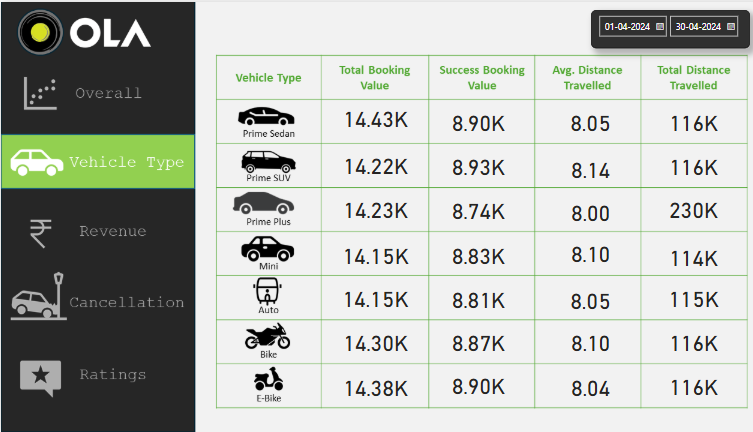

What the dashboard file says about the page in this screenshot:
{"tool":"powerbi","page":{"name":"Vehicle Type","canvas":[1280,720],"ordinal":1},"visuals":[{"type":"actionButton","box":[0,331.7,325,93.3],"z":0},{"type":"actionButton","box":[0,448.3,325,110],"z":1000},{"type":"actionButton","box":[0,105,325,93.3],"z":2000},{"type":"actionButton","box":[0,583.3,325,93.3],"z":3000},{"type":"card","fields":{"Values":["CountNonNull(Bookings.Booking Value)"]},"box":[538.3,151.7,171.7,80],"z":4000},{"type":"card","fields":{"Values":["CountNonNull(Bookings.Booking Value)"]},"box":[538.3,231.7,171.7,78.3],"z":5000},{"type":"card","fields":{"Values":["CountNonNull(Bookings.Booking Value)"]},"box":[538.3,525,171.7,80],"z":6000},{"type":"card","fields":{"Values":["CountNonNull(Bookings.Booking Value)"]},"box":[538.3,460,171.7,65],"z":7000},{"type":"card","fields":{"Values":["CountNonNull(Bookings.Booking Value)"]},"box":[538.3,381.7,171.7,78.3],"z":8000},{"type":"card","fields":{"Values":["CountNonNull(Bookings.Booking Value)"]},"box":[538.3,310,171.7,68.3],"z":9000},{"type":"card","fields":{"Values":["CountNonNull(Bookings.Booking Value)"]},"box":[538.3,605,171.7,71.7],"z":10000},{"type":"card","fields":{"Values":["CountNonNull(Bookings.Booking Value)"]},"box":[710,158.3,171.7,80],"z":11000},{"type":"card","fields":{"Values":["CountNonNull(Bookings.Booking Value)"]},"box":[710,231.7,171.7,80],"z":12000},{"type":"card","fields":{"Values":["CountNonNull(Bookings.Booking Value)"]},"box":[710,305,171.7,80],"z":13000},{"type":"card","fields":{"Values":["CountNonNull(Bookings.Booking Value)"]},"box":[710,380,171.7,80],"z":14000},{"type":"card","fields":{"Values":["CountNonNull(Bookings.Booking Value)"]},"box":[710,453.3,171.7,80],"z":15000},{"type":"card","fields":{"Values":["CountNonNull(Bookings.Booking Value)"]},"box":[710,525,171.7,80],"z":16000},{"type":"card","fields":{"Values":["CountNonNull(Bookings.Booking Value)"]},"box":[710,596.7,171.7,80],"z":17000},{"type":"card","fields":{"Values":["Avg(Bookings.Ride Distance)"]},"box":[896.7,160,171.7,78.3],"z":18000},{"type":"card","fields":{"Values":["Avg(Bookings.Ride Distance)"]},"box":[896.7,238.3,171.7,78.3],"z":19000},{"type":"card","fields":{"Values":["Avg(Bookings.Ride Distance)"]},"box":[896.7,310,171.7,78.3],"z":20000},{"type":"card","fields":{"Values":["Avg(Bookings.Ride Distance)"]},"box":[896.7,381.7,171.7,71.7],"z":21000},{"type":"card","fields":{"Values":["Avg(Bookings.Ride Distance)"]},"box":[896.7,460,171.7,73.3],"z":22000},{"type":"card","fields":{"Values":["Avg(Bookings.Ride Distance)"]},"box":[896.7,526.7,171.7,78.3],"z":23000},{"type":"card","fields":{"Values":["Avg(Bookings.Ride Distance)"]},"box":[896.7,601.7,171.7,78.3],"z":24000},{"type":"card","fields":{"Values":["Sum(Bookings.Ride Distance)"]},"box":[1068.3,233.3,171.7,78.3],"z":25000},{"type":"card","fields":{"Values":["Sum(Bookings.Ride Distance)"]},"box":[1068.3,160,171.7,78.3],"z":26000},{"type":"card","fields":{"Values":["Sum(Bookings.Ride Distance)"]},"box":[1068.3,305,171.7,78.3],"z":27000},{"type":"card","fields":{"Values":["Sum(Bookings.Ride Distance)"]},"box":[1068.3,385,171.7,78.3],"z":28000},{"type":"card","fields":{"Values":["Sum(Bookings.Ride Distance)"]},"box":[1068.3,453.3,171.7,78.3],"z":29000},{"type":"card","fields":{"Values":["Sum(Bookings.Ride Distance)"]},"box":[1068.3,531.7,171.7,68.3],"z":30000},{"type":"card","fields":{"Values":["Sum(Bookings.Ride Distance)"]},"box":[1068.3,600,171.7,78.3],"z":31000},{"type":"slicer","title":"Date","fields":{"Values":["Bookings.Date"]},"box":[982.7,13.4,265.4,63.8],"z":32000}]}

Visuals, with their boxes on the page's 1280x720 design canvas (x1, y1, x2, y2). These are canvas units, not pixel positions in the 753x432 screenshot, which may show the page scaled, cropped or inside an application window:
actionButton: crop(0, 332, 325, 425)
actionButton: crop(0, 448, 325, 558)
actionButton: crop(0, 105, 325, 198)
actionButton: crop(0, 583, 325, 677)
card - CountNonNull(Bookings.Booking Value): crop(538, 152, 710, 232)
card - CountNonNull(Bookings.Booking Value): crop(538, 232, 710, 310)
card - CountNonNull(Bookings.Booking Value): crop(538, 525, 710, 605)
card - CountNonNull(Bookings.Booking Value): crop(538, 460, 710, 525)
card - CountNonNull(Bookings.Booking Value): crop(538, 382, 710, 460)
card - CountNonNull(Bookings.Booking Value): crop(538, 310, 710, 378)
card - CountNonNull(Bookings.Booking Value): crop(538, 605, 710, 677)
card - CountNonNull(Bookings.Booking Value): crop(710, 158, 882, 238)
card - CountNonNull(Bookings.Booking Value): crop(710, 232, 882, 312)
card - CountNonNull(Bookings.Booking Value): crop(710, 305, 882, 385)
card - CountNonNull(Bookings.Booking Value): crop(710, 380, 882, 460)
card - CountNonNull(Bookings.Booking Value): crop(710, 453, 882, 533)
card - CountNonNull(Bookings.Booking Value): crop(710, 525, 882, 605)
card - CountNonNull(Bookings.Booking Value): crop(710, 597, 882, 677)
card - Avg(Bookings.Ride Distance): crop(897, 160, 1068, 238)
card - Avg(Bookings.Ride Distance): crop(897, 238, 1068, 317)
card - Avg(Bookings.Ride Distance): crop(897, 310, 1068, 388)
card - Avg(Bookings.Ride Distance): crop(897, 382, 1068, 453)
card - Avg(Bookings.Ride Distance): crop(897, 460, 1068, 533)
card - Avg(Bookings.Ride Distance): crop(897, 527, 1068, 605)
card - Avg(Bookings.Ride Distance): crop(897, 602, 1068, 680)
card - Sum(Bookings.Ride Distance): crop(1068, 233, 1240, 312)
card - Sum(Bookings.Ride Distance): crop(1068, 160, 1240, 238)
card - Sum(Bookings.Ride Distance): crop(1068, 305, 1240, 383)
card - Sum(Bookings.Ride Distance): crop(1068, 385, 1240, 463)
card - Sum(Bookings.Ride Distance): crop(1068, 453, 1240, 532)
card - Sum(Bookings.Ride Distance): crop(1068, 532, 1240, 600)
card - Sum(Bookings.Ride Distance): crop(1068, 600, 1240, 678)
"Date" slicer: crop(983, 13, 1248, 77)
